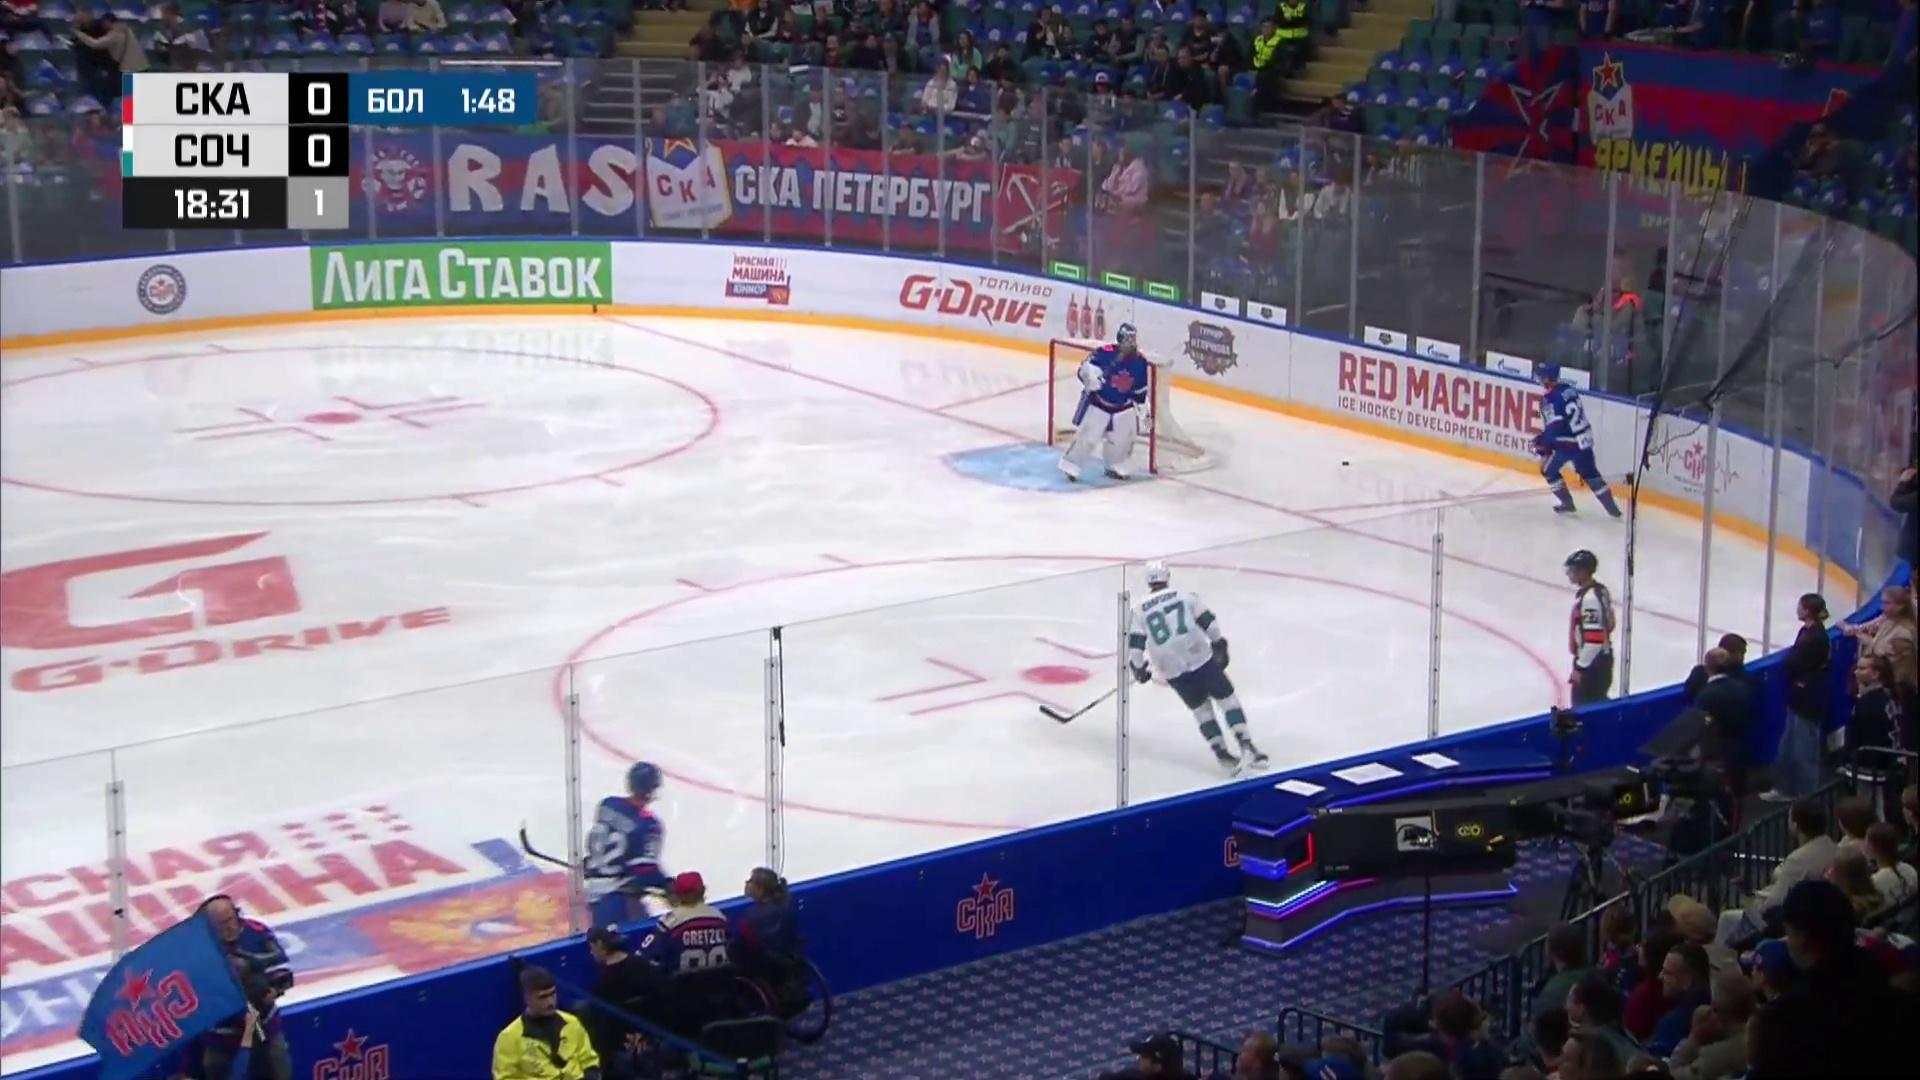ball: (1341, 460, 1350, 465)
